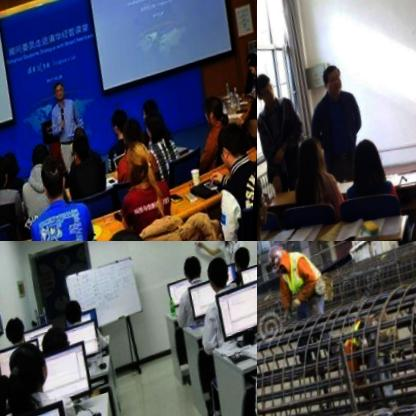head: (6, 336, 58, 400), (350, 138, 391, 191), (217, 125, 257, 179), (123, 139, 161, 193), (294, 134, 332, 187), (39, 153, 75, 205), (257, 172, 282, 241), (39, 321, 78, 361), (204, 255, 237, 299), (67, 131, 98, 175), (1, 310, 32, 348), (27, 140, 56, 179), (121, 120, 150, 157), (142, 114, 170, 150), (182, 253, 209, 289), (202, 99, 228, 136), (322, 65, 347, 103), (257, 70, 281, 109), (100, 225, 158, 241), (109, 111, 133, 144), (139, 99, 164, 130), (2, 149, 25, 182), (231, 246, 255, 277), (63, 296, 86, 327), (0, 155, 16, 195), (53, 82, 69, 104)
helmet: (265, 243, 296, 284)
